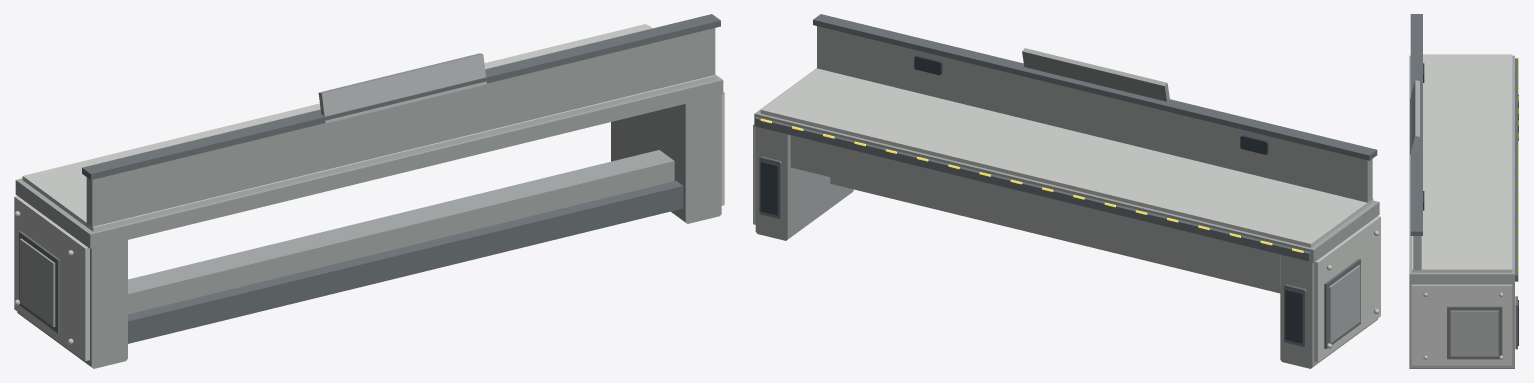
File: REAKTOR_GUC_KONSOLU_GOVDE_20_ADAY.glb
3 views of the same model, side by side, from view 1: azimuth 30°, elevation 25°; view 2: azimuth 150°, elevation 25°; view 3: azimuth 270°, elevation 25° (orthographic). The views are drawn at different scales.
Parts seen in each view (by area): view 1: Console_rear_guard, Underside_horizontal_support, Bottom_rear_structural_rail, Worktop_main_slab, Worktop_top, Pedestal_side_1, Console_rear_guard_cap, Side_endcap_-1, Pedestal_side_-1, Power_console_nameplate_blank, End_inner_panel_-1, End_inset_-1; view 2: Worktop_top, Console_rear_guard, Upper_front_apron, Console_rear_guard_cap, Worktop_front_dark_edge, Pedestal_side_1, Worktop_main_slab, Side_endcap_-1, Underside_horizontal_support, Power_console_nameplate_blank, Pedestal_side_-1, End_inner_panel_-1 (+5 smaller); view 3: Worktop_top, Side_endcap_1, Worktop_main_slab, Console_rear_guard_cap, End_inner_panel_1, Pedestal_side_1, Worktop_front_dark_edge, End_inset_1, Power_console_nameplate_blank, Console_rear_guard, Leg_service_bezel_1.
Part boxes in pixels (x1,y1,x2,y2): Console_rear_guard: [86, 28, 715, 227]; Underside_horizontal_support: [128, 150, 674, 314]; Bottom_rear_structural_rail: [128, 181, 683, 343]; Worktop_main_slab: [15, 25, 723, 248]; Worktop_top: [22, 24, 716, 231]; Pedestal_side_1: [611, 90, 721, 223]; Console_rear_guard_cap: [82, 14, 720, 179]; Side_endcap_-1: [14, 196, 89, 361]; Pedestal_side_-1: [17, 235, 127, 368]; Power_console_nameplate_blank: [318, 53, 486, 123]; End_inner_panel_-1: [19, 238, 55, 327]; End_inset_-1: [19, 231, 60, 333]; Worktop_top: [760, 68, 1373, 247]; Console_rear_guard: [817, 26, 1372, 202]; Upper_front_apron: [790, 135, 1280, 286]; Console_rear_guard_cap: [813, 14, 1377, 160]; Worktop_front_dark_edge: [754, 117, 1311, 261]; Pedestal_side_1: [755, 126, 853, 240]; Worktop_main_slab: [754, 68, 1379, 262]; Side_endcap_-1: [1314, 216, 1380, 361]; Underside_horizontal_support: [830, 177, 1280, 293]; Power_console_nameplate_blank: [1022, 48, 1169, 101]; Pedestal_side_-1: [1280, 254, 1378, 368]; End_inner_panel_-1: [1328, 265, 1360, 343]; Worktop_top: [1412, 54, 1512, 272]; Side_endcap_1: [1411, 284, 1512, 365]; Worktop_main_slab: [1409, 55, 1514, 284]; Console_rear_guard_cap: [1410, 14, 1422, 235]; End_inner_panel_1: [1450, 310, 1498, 356]; Pedestal_side_1: [1409, 284, 1514, 368]; Worktop_front_dark_edge: [1515, 58, 1518, 281]; End_inset_1: [1447, 306, 1502, 359]; Power_console_nameplate_blank: [1410, 80, 1419, 155]; Console_rear_guard: [1413, 236, 1421, 270]; Leg_service_bezel_1: [1515, 296, 1517, 349].
Size of the model in its own units: 8.51 by 2.68 by 1.75.
